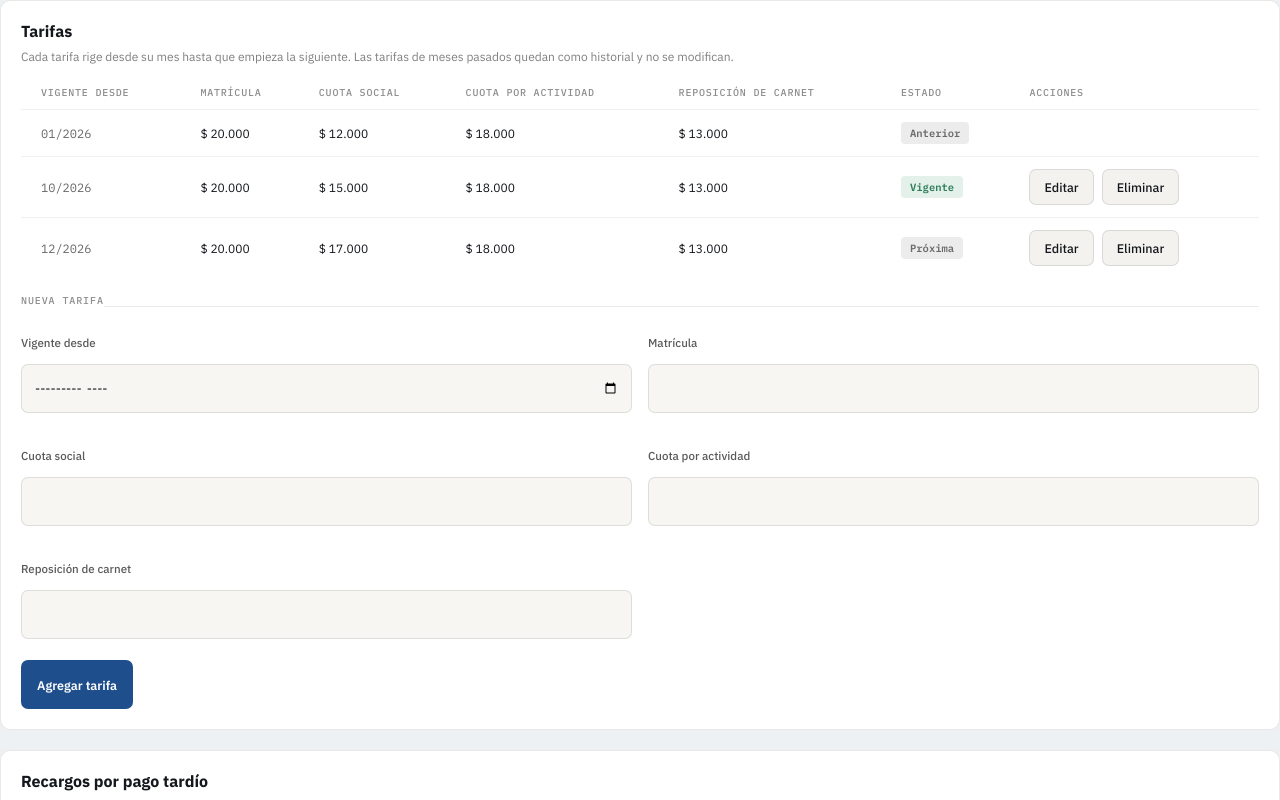
Test: PricingView › adds a future tariff and reloads the configuration
Expected: the table named "Tarifas" is shown, [21,76,1259,278]
Type "2027-02" into the field labelled "Vigente desde" at point(326, 388), box [21,364,632,413]
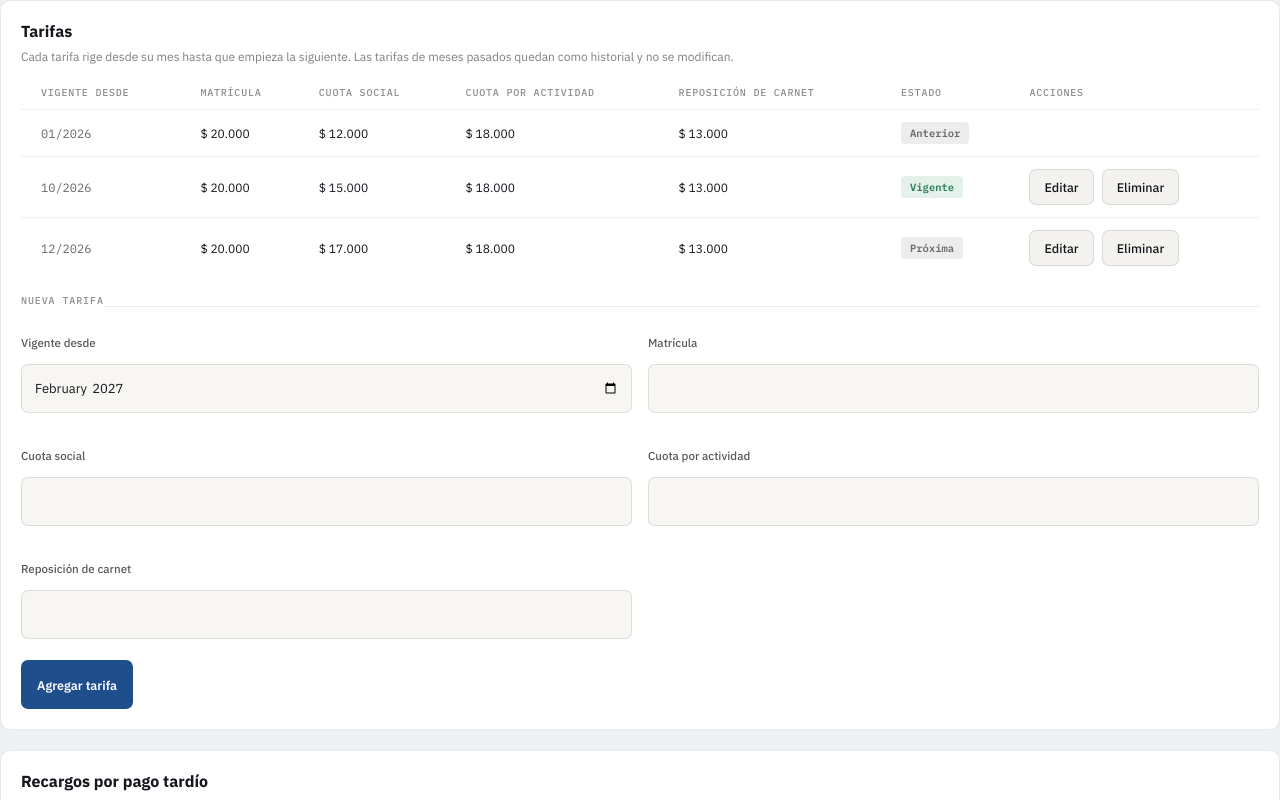
Type "21000" into the field labelled "Matrícula" at point(954, 388), box [648,364,1259,413]
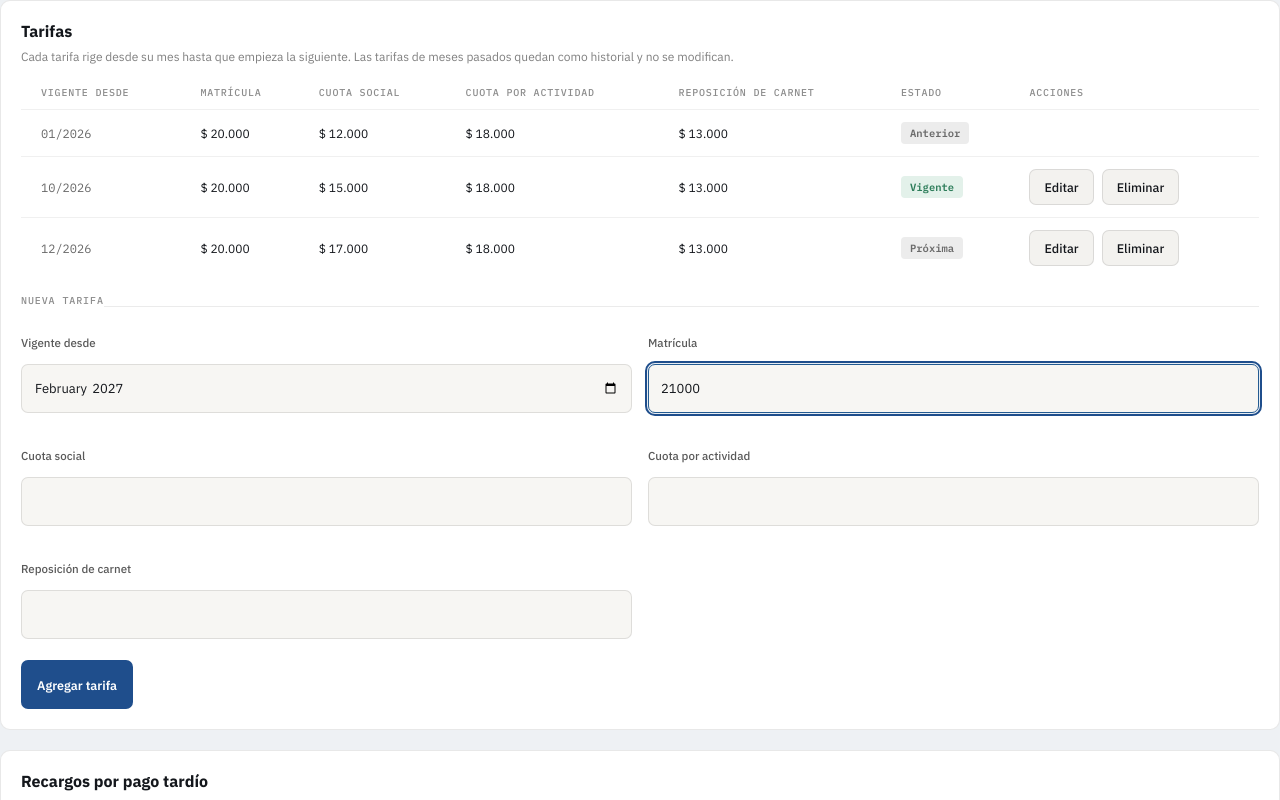
Type "18000" into the field labelled "Cuota social" at point(326, 502), box [21,477,632,526]
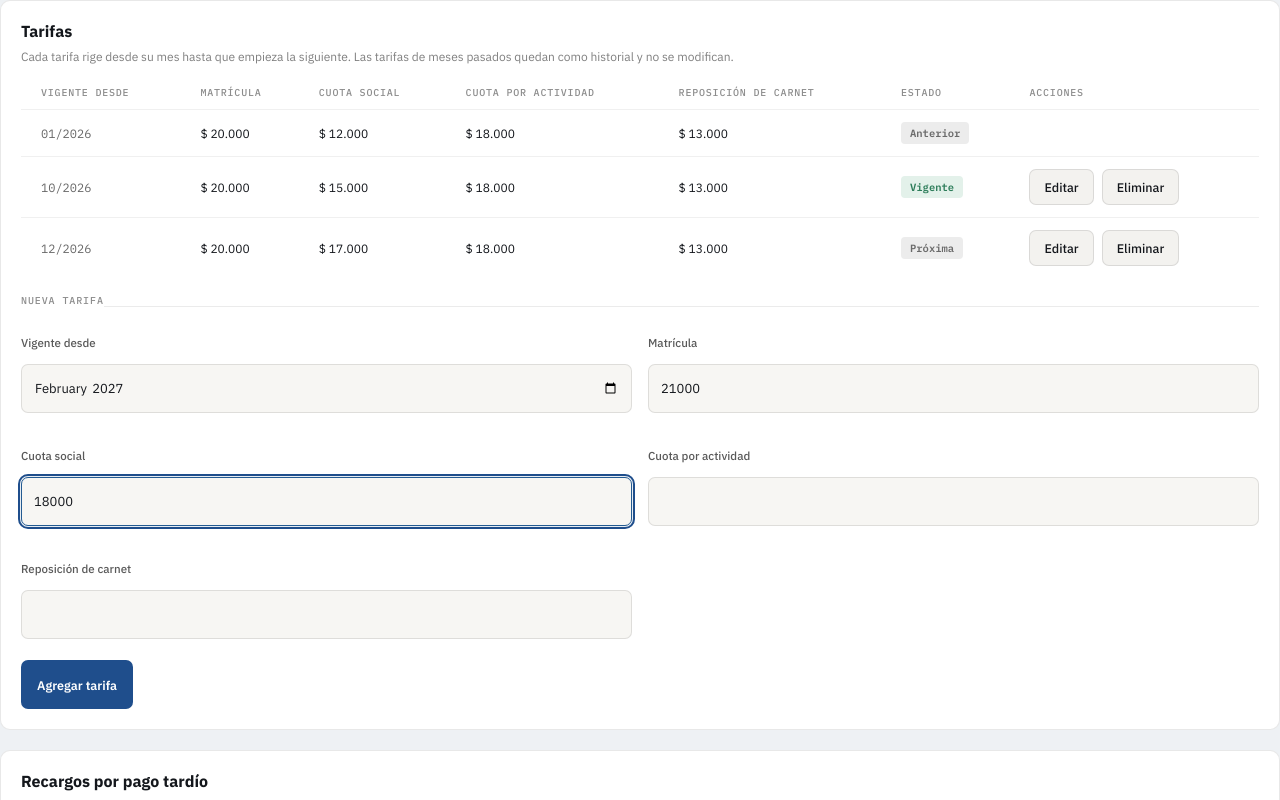
Type "19000" into the field labelled "Cuota por actividad" at point(954, 502), box [648,477,1259,526]
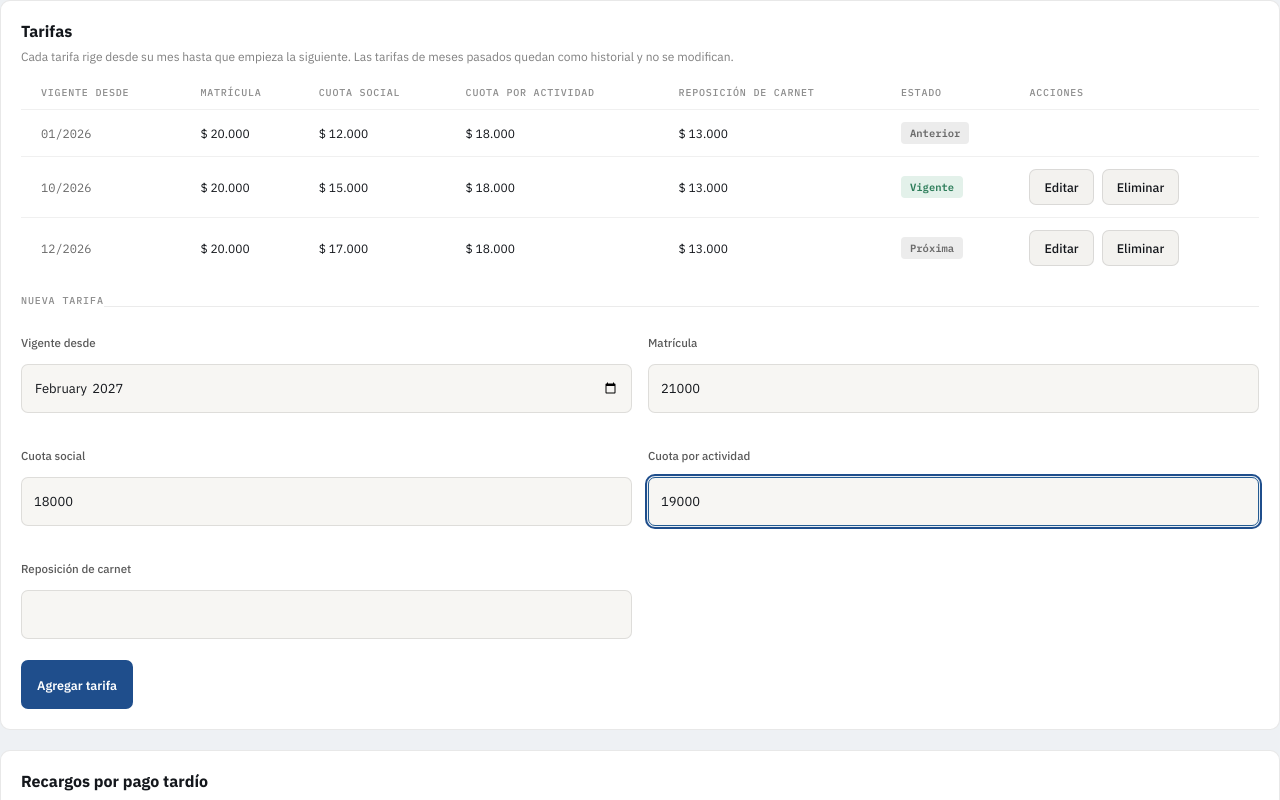
Type "14000" into the field labelled "Reposición de carnet" at point(326, 614), box [21,590,632,639]
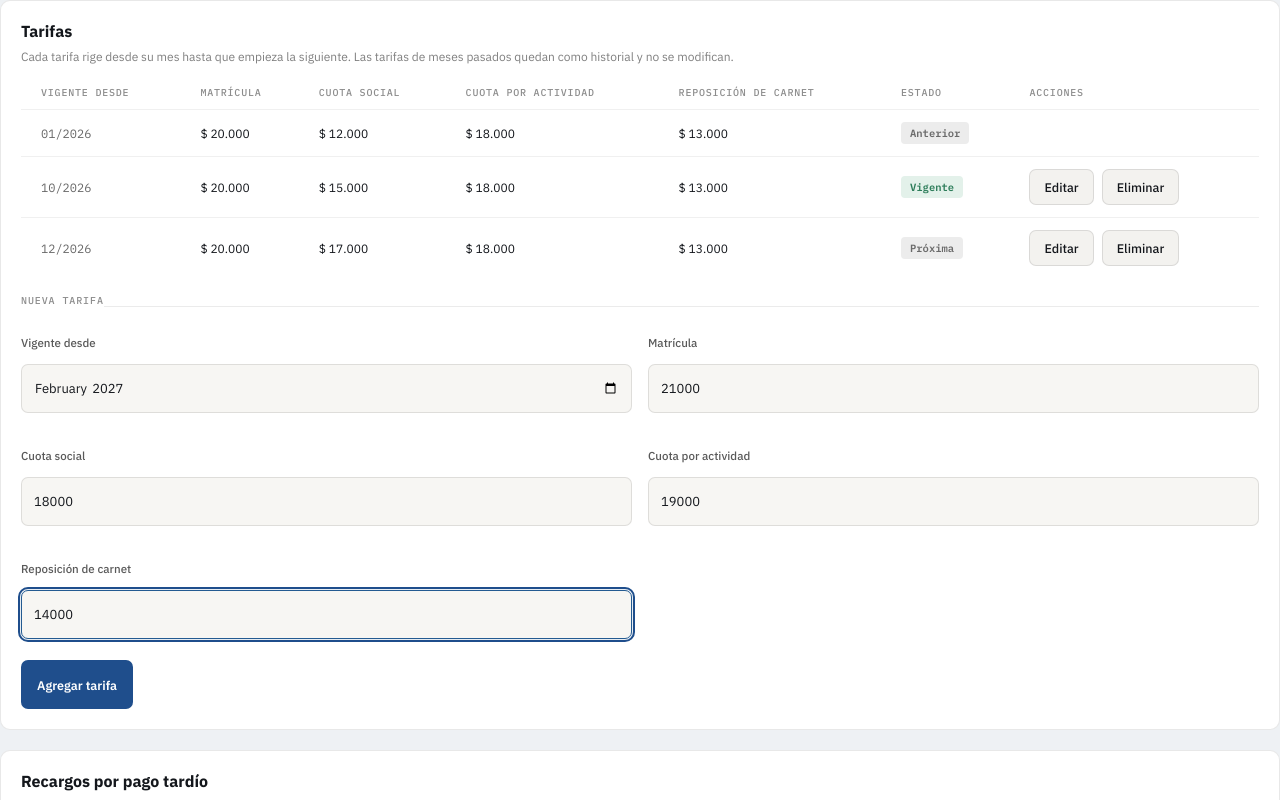
Click the button "Agregar tarifa" at point(77, 684), box [21,660,133,709]
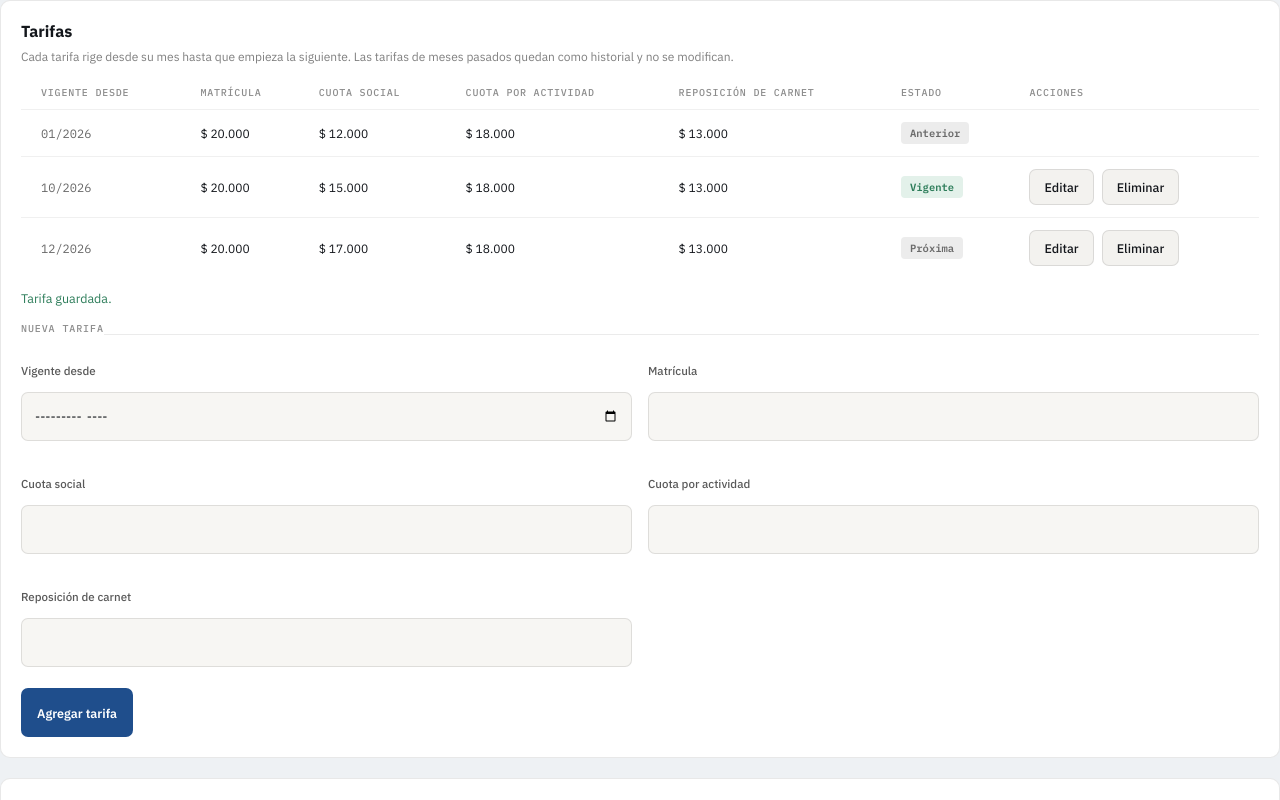
Expected: the message reads "Tarifa guardada.", [21,290,112,306]
